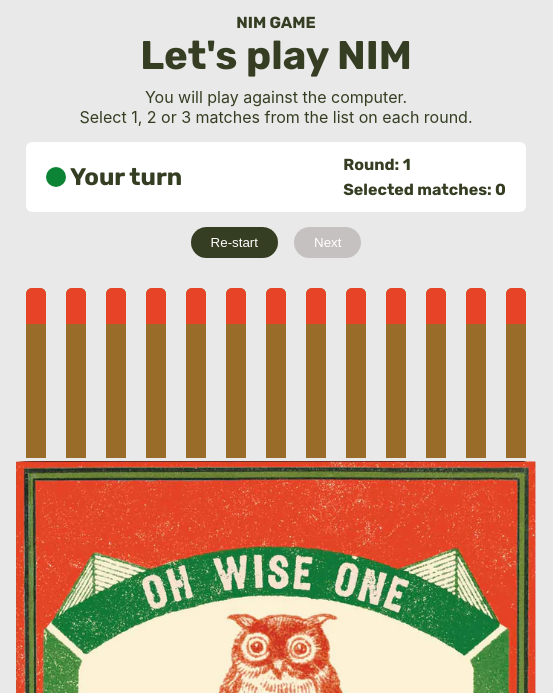
Test: User journey › good jorney
Expected: the button "Next" is disabled, [294,227,361,258]
Expected: the heading "Round: 1" is shown, [343,155,411,174]
Click the button with test id "match-5". click: (196, 373)
box: [186,288,206,458]
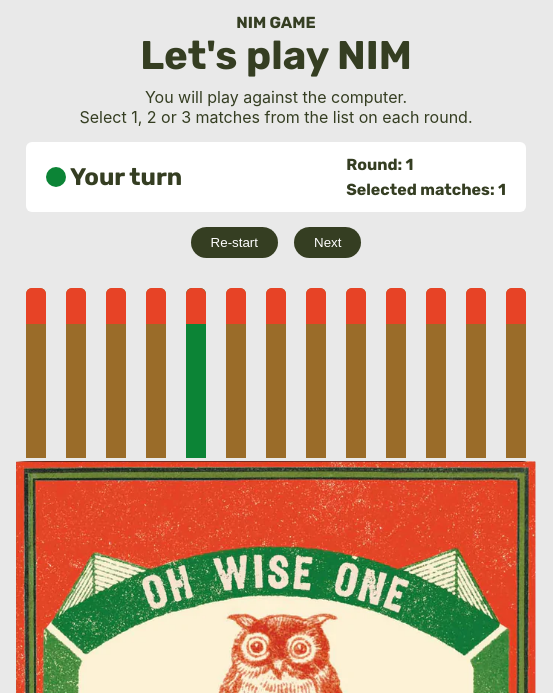
Result: the button with test id "match-5" is disabled at [186,288,206,458]
Result: the button "Next" is enabled
next button should be clicked to finish the human game and start computer game
Click the button "Next". click: (328, 242)
box: [294,227,361,258]
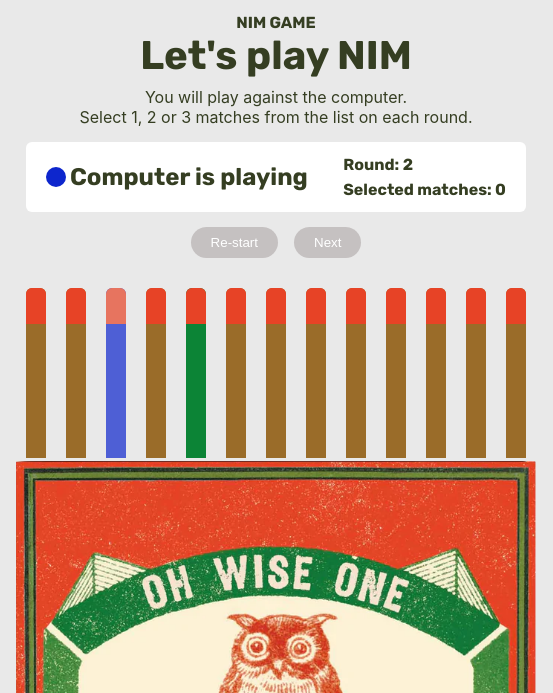
Result: the heading "Computer is playing" is shown at [70,163,308,191]
Result: the button "Next" is disabled at [294,227,361,258]
Result: the heading "Round: 2" is shown at [343,155,413,174]
